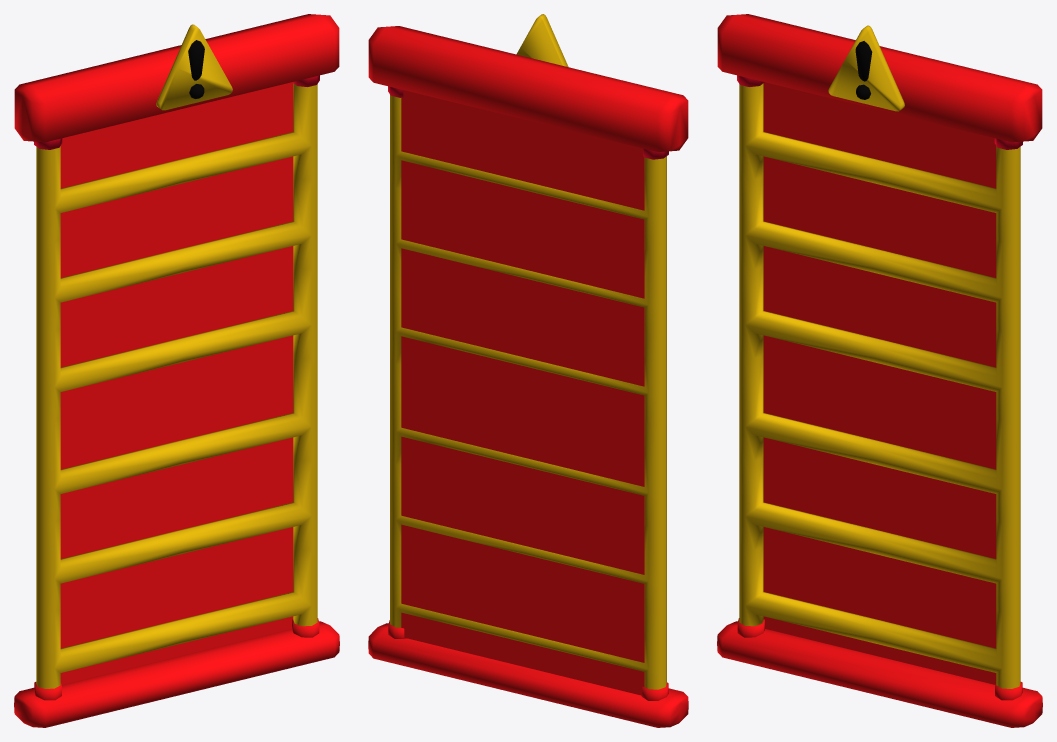
Rendered from Still_Electricity_Panel.fbx.
3 views of the same model, side by side, from view 1: azimuth 30°, elevation 25°; view 2: azimuth 150°, elevation 25°; view 3: azimuth 330°, elevation 25° (orthographic).
Parts seen in each view (by area): view 1: still electricity panel; view 2: still electricity panel; view 3: still electricity panel.
Part boxes in pixels (left/top/right/bottom): still electricity panel: left=14, top=14, right=339, bottom=727; still electricity panel: left=368, top=14, right=688, bottom=727; still electricity panel: left=717, top=14, right=1042, bottom=727.
Bounding box in the file's own units: 174 × 361 × 34.52.
